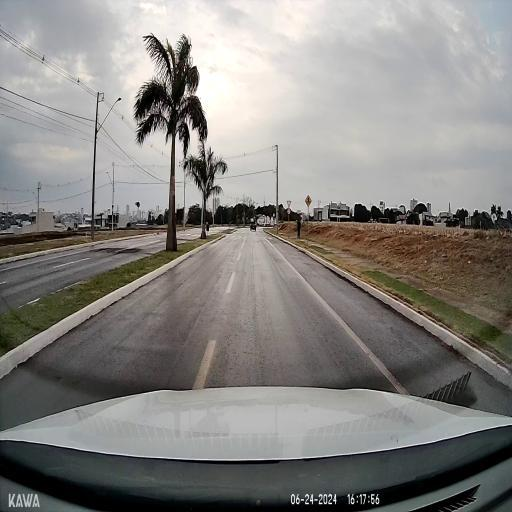A-32b: (304, 194, 312, 207)
R-2: (286, 200, 292, 207)
R-33: (287, 208, 291, 214)
